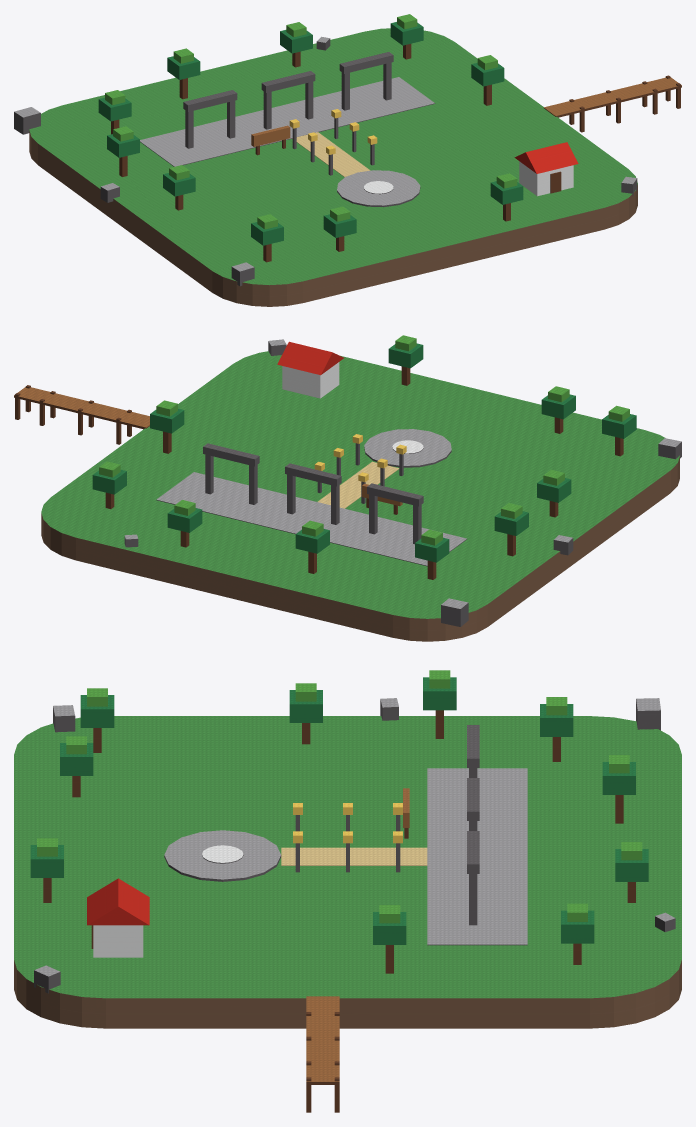
Rendered from hub_map.fbx.
3 renders of one model, top to bottom at view 1: azimuth 30°, elevation 25°; view 2: azimuth 150°, elevation 25°; view 3: azimuth 270°, elevation 25°, orthographic. The views are drawn at different scales.
Visible parts, largest first — view 1: Ilha, PracaPortais, PracaSpawn, Pier, Cabana_Telhado, Caminho, Cabana, Arco1_Topo, Arco0_Topo, Arco2_Topo, Pedra2, Arvore2_Folhas (+10 smaller); view 2: Ilha, PracaPortais, PracaSpawn, Pier, Cabana, Cabana_Telhado, Caminho, Pedra2, Arco0_Topo, Arco2_Topo, Arco1_Topo, Arvore8_Folhas (+9 smaller); view 3: Ilha, PracaPortais, PracaSpawn, Pier, Caminho, Cabana_Telhado, Cabana, Arvore9_Folhas, Arvore0_Folhas, Arvore5_Folhas, Arvore1_Folhas, Arvore2_Folhas (+6 smaller).
Boxes of the visible parts, x1=… form: Ilha: x1=29, y1=28, x2=637, y2=306; PracaPortais: x1=140, y1=77, x2=435, y2=166; PracaSpawn: x1=337, y1=170, x2=420, y2=207; Pier: x1=543, y1=77, x2=681, y2=117; Cabana_Telhado: x1=514, y1=142, x2=578, y2=173; Caminho: x1=292, y1=132, x2=370, y2=177; Cabana: x1=519, y1=161, x2=573, y2=196; Arco1_Topo: x1=261, y1=71, x2=315, y2=92; Arco0_Topo: x1=183, y1=90, x2=237, y2=111; Arco2_Topo: x1=339, y1=52, x2=393, y2=73; Pedra2: x1=14, y1=107, x2=40, y2=134; Arvore2_Folhas: x1=98, y1=97, x2=131, y2=121; Ilha: x1=41, y1=351, x2=679, y2=641; PracaPortais: x1=156, y1=472, x2=466, y2=566; PracaSpawn: x1=364, y1=429, x2=451, y2=467; Pier: x1=14, y1=387, x2=149, y2=429; Cabana: x1=282, y1=362, x2=339, y2=398; Cabana_Telhado: x1=277, y1=341, x2=343, y2=375; Caminho: x1=317, y1=461, x2=399, y2=508; Pedra2: x1=441, y1=598, x2=468, y2=626; Arco0_Topo: x1=367, y1=483, x2=423, y2=506; Arco2_Topo: x1=203, y1=443, x2=259, y2=466; Arco1_Topo: x1=285, y1=463, x2=341, y2=486; Arvore8_Folhas: x1=388, y1=343, x2=423, y2=368; Ilha: x1=14, y1=716, x2=681, y2=1028; PracaPortais: x1=427, y1=768, x2=527, y2=945; PracaSpawn: x1=164, y1=830, x2=281, y2=881; Pier: x1=306, y1=996, x2=339, y2=1084; Caminho: x1=281, y1=847, x2=427, y2=865; Cabana_Telhado: x1=87, y1=878, x2=149, y2=925; Cabana: x1=93, y1=925, x2=143, y2=957; Arvore9_Folhas: x1=423, y1=677, x2=456, y2=710; Arvore0_Folhas: x1=80, y1=695, x2=114, y2=727; Arvore5_Folhas: x1=561, y1=910, x2=594, y2=943; Arvore1_Folhas: x1=289, y1=690, x2=322, y2=722; Arvore2_Folhas: x1=540, y1=704, x2=573, y2=736.
Size of what is drawn, in the model's own units: 211 by 24.5 by 160.
Materials: 20 (20 with a texture image).
